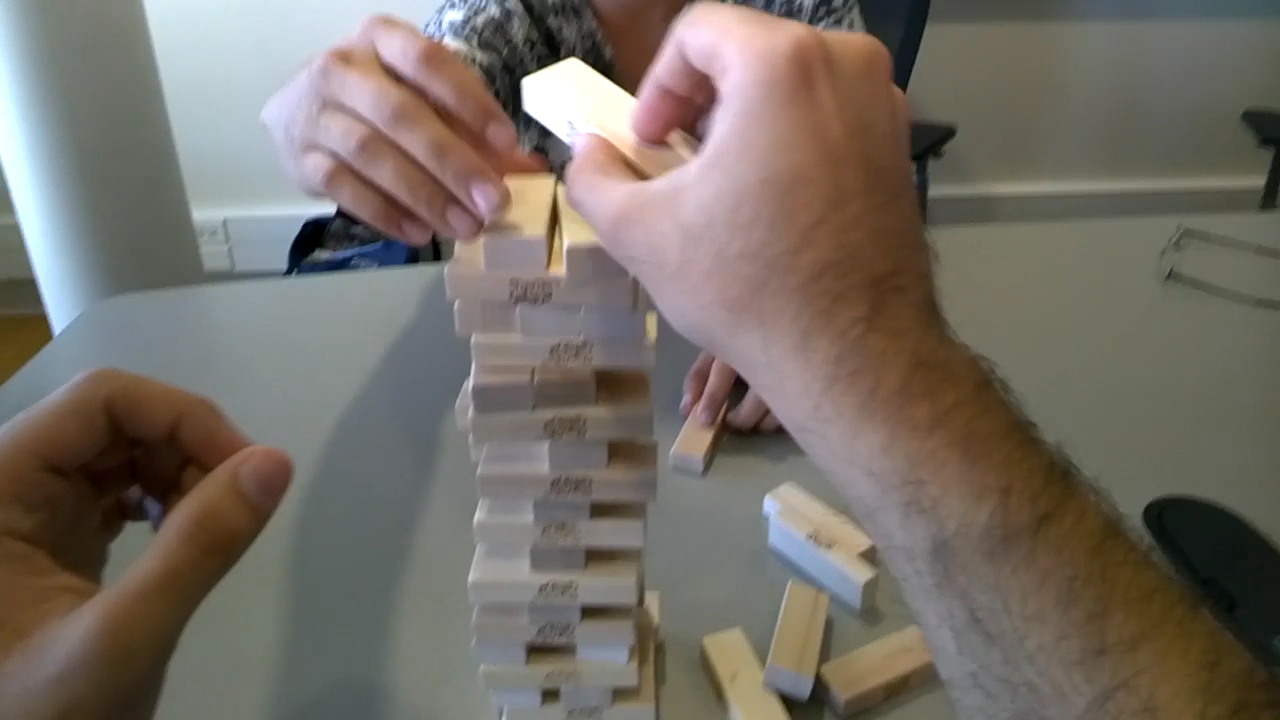hand: (572, 2, 914, 345), (7, 376, 287, 710), (266, 15, 533, 238), (683, 355, 766, 432)
